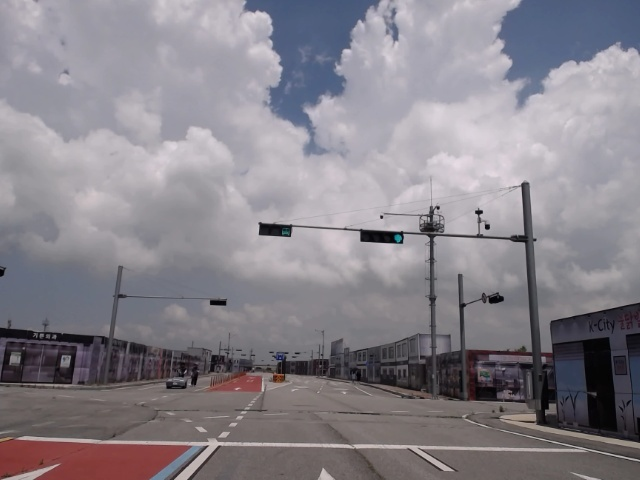straight_green_4: (362, 232, 406, 244)
